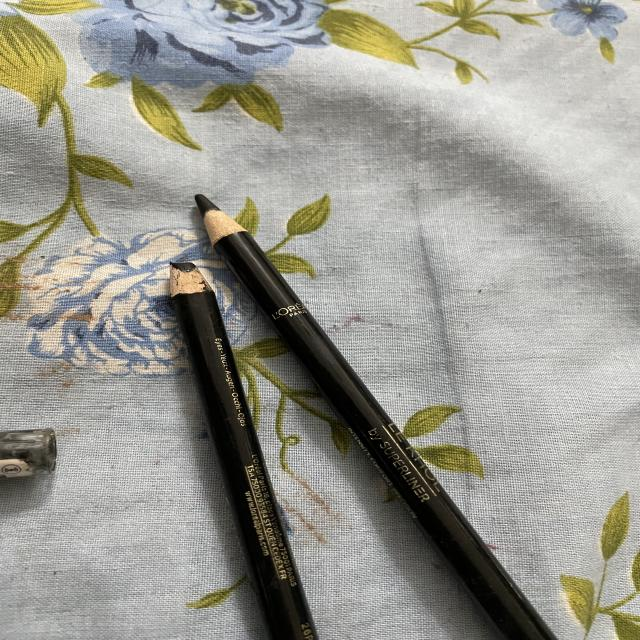eye liner: (9, 186, 591, 640), (144, 188, 295, 362)
